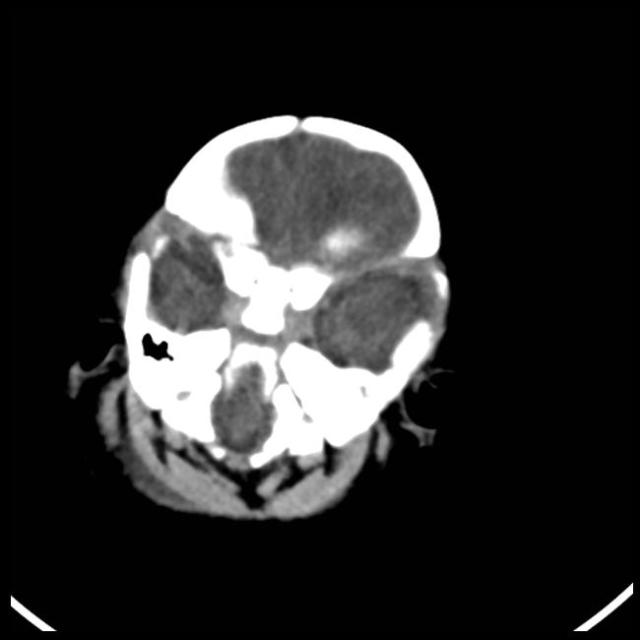lesion: (67, 108, 459, 525)
